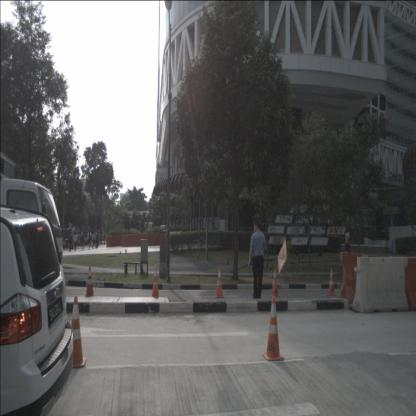barrier: (339, 251, 392, 308), (406, 257, 416, 310)
cone: (351, 257, 409, 310), (64, 295, 87, 368), (262, 295, 285, 363), (150, 265, 161, 302), (85, 265, 96, 301), (214, 267, 225, 298), (326, 267, 337, 296), (270, 268, 280, 298)
